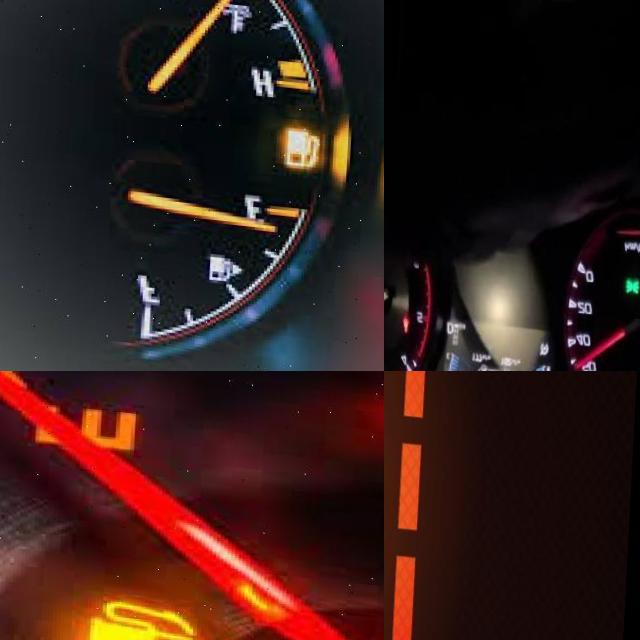Seat Belt: (406, 311, 414, 328)
